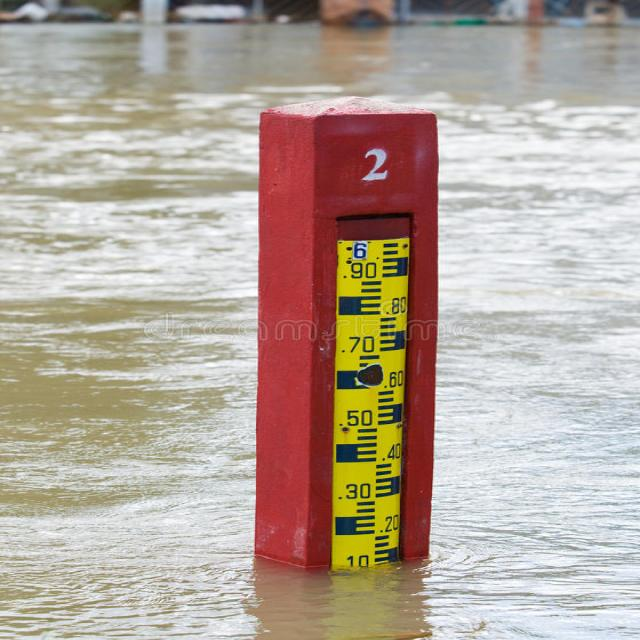ruler: (317, 232, 432, 580)
value: (333, 408, 378, 430), (332, 481, 376, 503), (338, 335, 381, 357), (338, 263, 380, 283), (374, 512, 406, 537), (376, 366, 409, 390), (378, 293, 412, 316), (375, 443, 408, 465), (350, 240, 370, 262)
